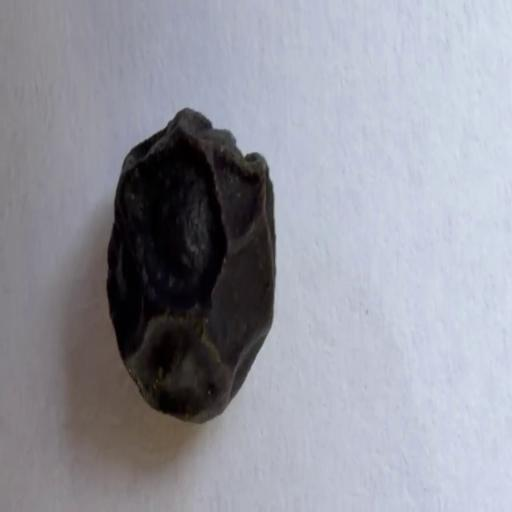Black_pepper: (104, 100, 287, 458)
